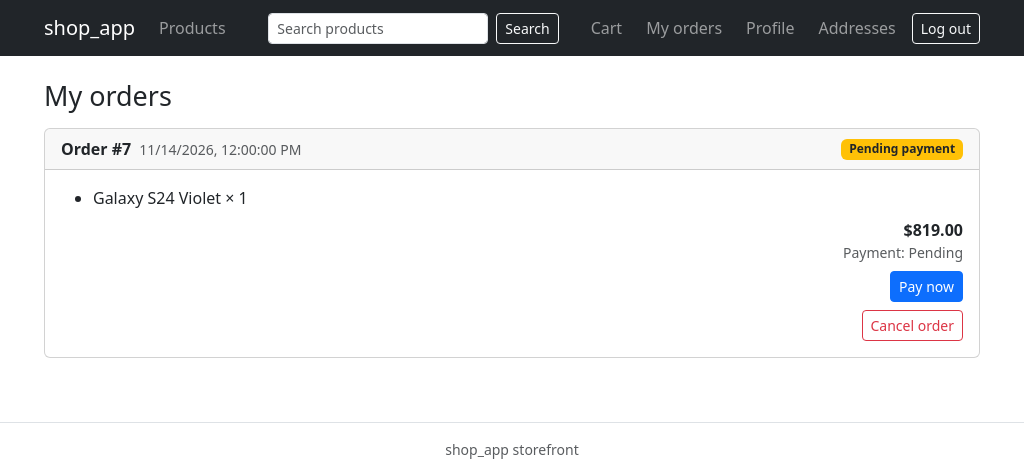
Test: My orders: cancel › asks for confirmation, then cancels and shows the cancelled order
This screenshot has width=1024, height=476.
Click the button "Cancel order" at [912, 326], box [862, 310, 963, 341]
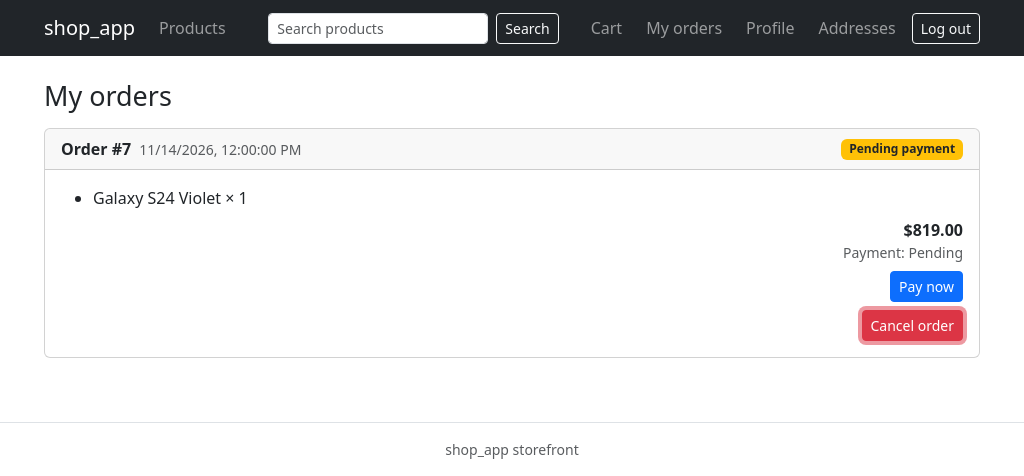
Click the button "Cancel order" at [912, 326], box [862, 310, 963, 341]
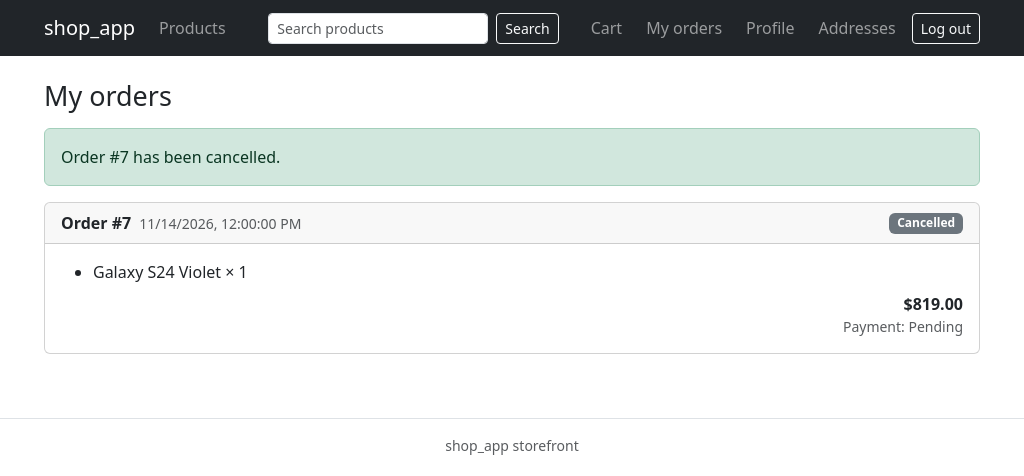
Expected: the text "Order #7 has been cancelled." is shown, [44, 128, 980, 186]
Expected: the text "Cancelled" is shown, [889, 213, 963, 234]
Expected: the button "Cancel order" is gone
